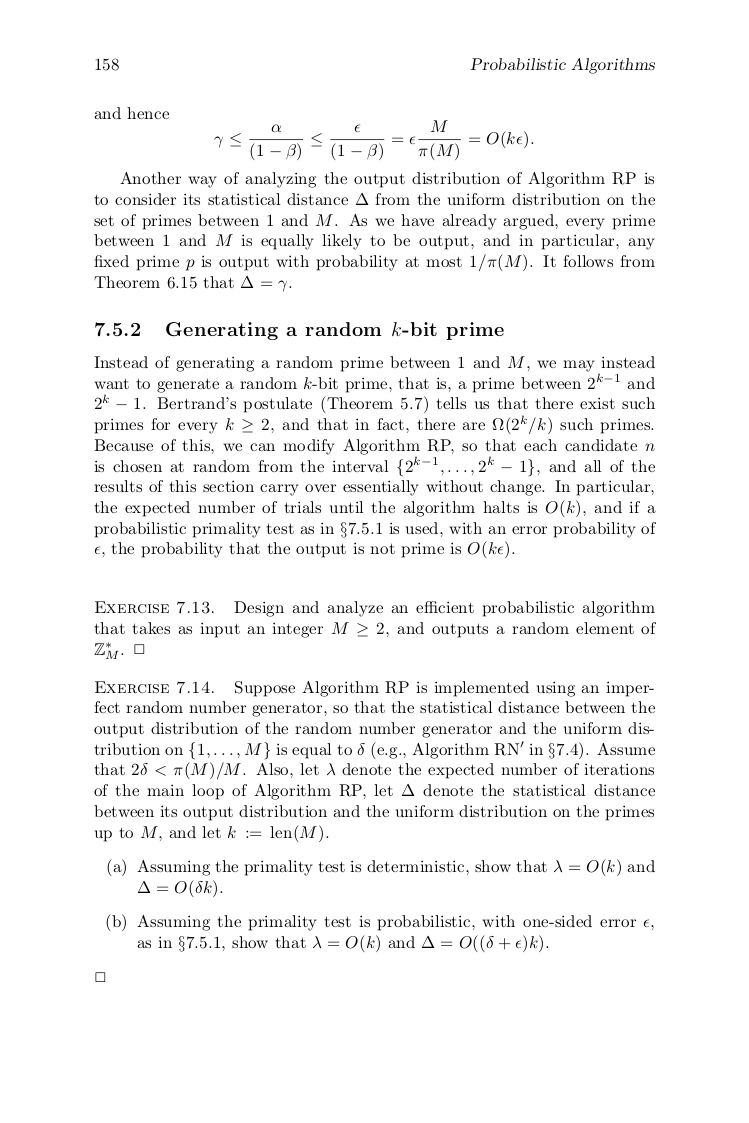formula: (214, 120, 533, 160), (138, 879, 222, 898)
